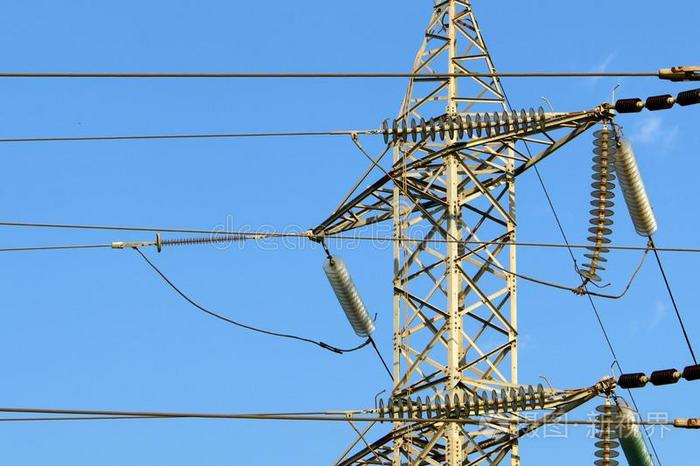insulator: (381, 105, 549, 146), (378, 384, 555, 422), (580, 129, 615, 284), (324, 254, 377, 338), (615, 137, 658, 237), (593, 401, 622, 466), (617, 423, 651, 466)
